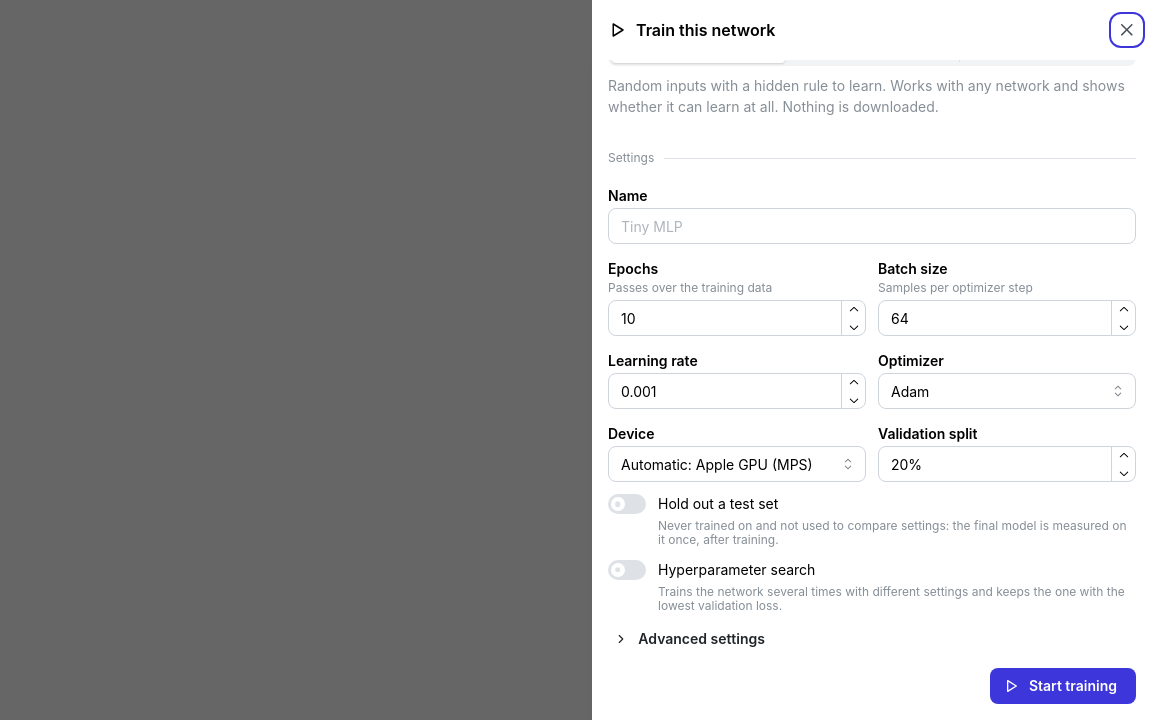
Test: TrainingDrawer › offers to open the running training when the server is busy
(page scrolled)
Click the button "Start training": (1063, 686) [990, 668, 1136, 704]
(page scrolled)
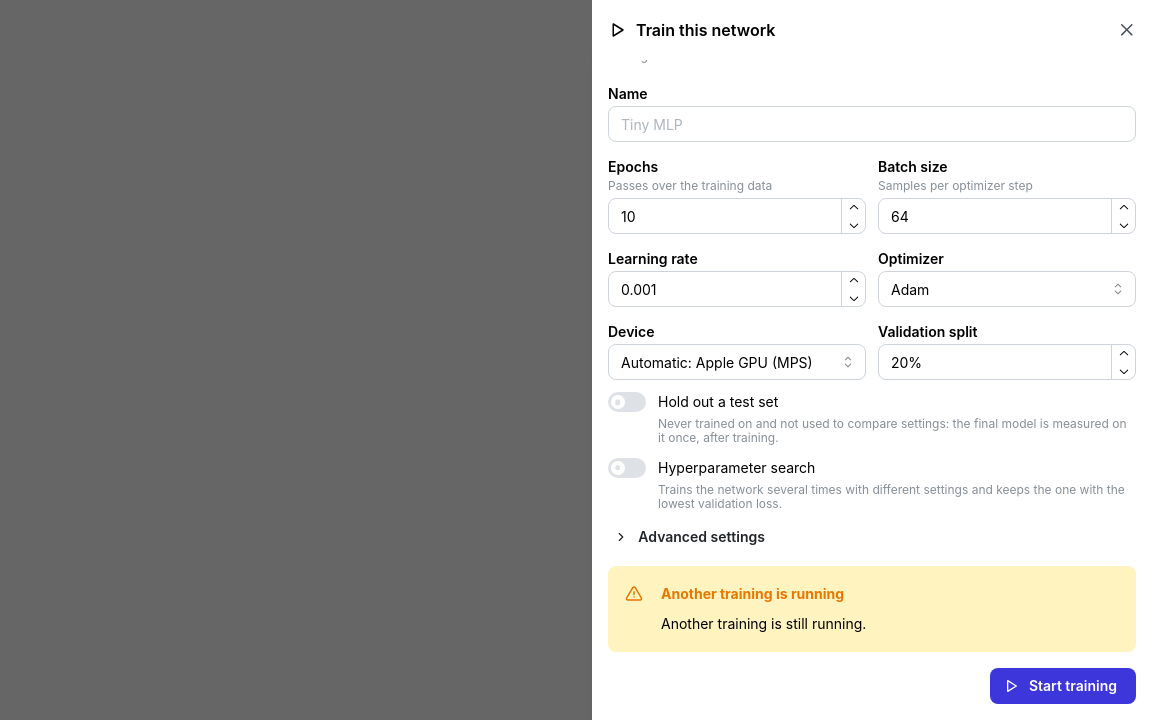
Check: the text "Another training is still running." is shown, box [661, 615, 866, 632]
